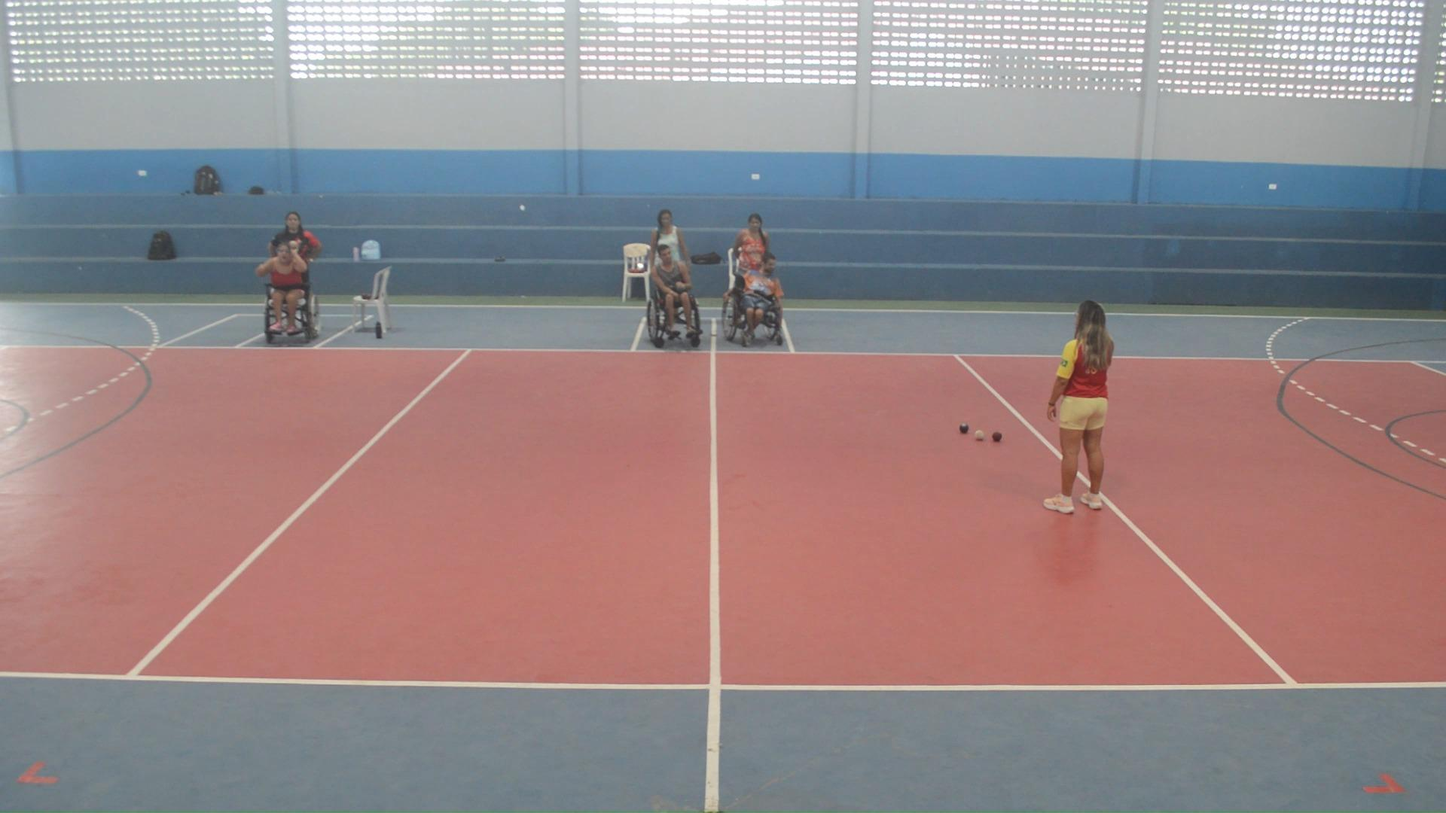blue_ball: (958, 422, 970, 434)
red_ball: (991, 431, 1003, 443)
white_ball: (973, 429, 985, 442)
